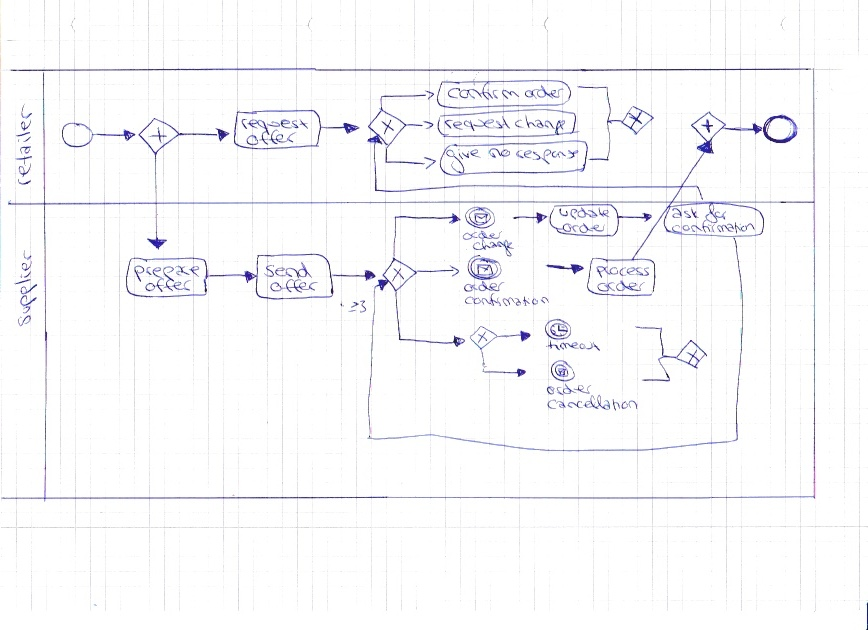>=3: (349, 300, 368, 315)
Cancellation: (548, 398, 637, 412)
Process: (596, 265, 650, 280)
Send: (264, 263, 313, 280)
Suppliesr: (14, 250, 40, 327)
ask: (673, 208, 704, 222)
change: (514, 117, 567, 135), (473, 239, 514, 253)
confirm: (449, 86, 522, 102)
confirmation: (464, 294, 549, 308), (669, 222, 757, 235)
for: (704, 203, 726, 222)
give: (447, 147, 487, 163)
no: (487, 146, 507, 162)
offer: (243, 130, 296, 148), (145, 278, 198, 295), (267, 280, 319, 297)
order: (542, 380, 592, 396), (599, 280, 646, 294), (464, 280, 505, 296), (524, 85, 563, 101), (462, 229, 506, 243), (558, 223, 604, 235)
out: (578, 340, 597, 352)
prepare: (134, 264, 205, 282)
request: (444, 117, 512, 134), (238, 118, 310, 132)
response: (513, 147, 579, 164)
retailer: (12, 105, 39, 189)
time: (545, 340, 577, 352)
update: (561, 207, 609, 220)
